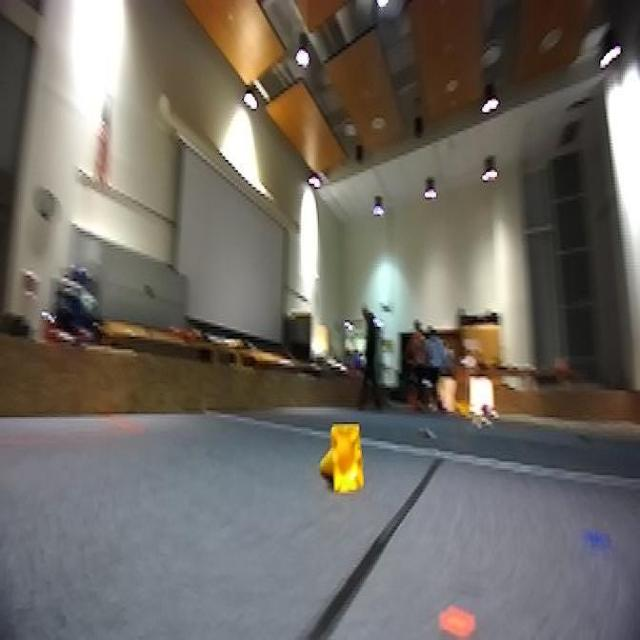frc_cone: (317, 422, 367, 499)
